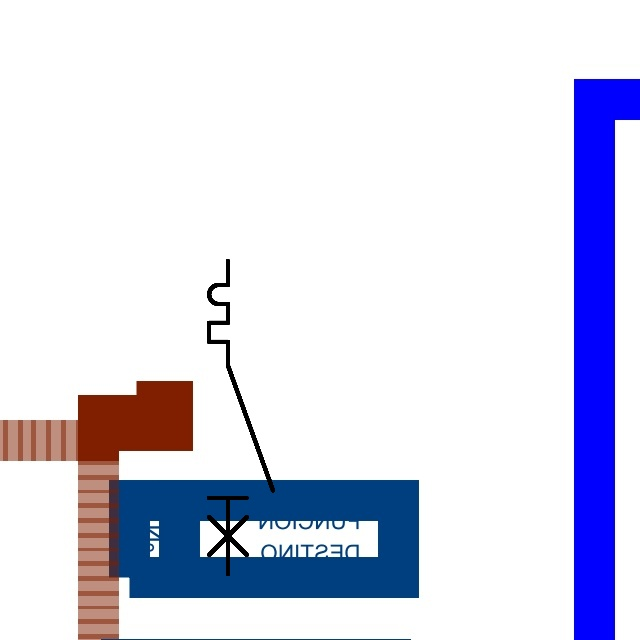interruptor_termomagnetico: (201, 253, 281, 582)
